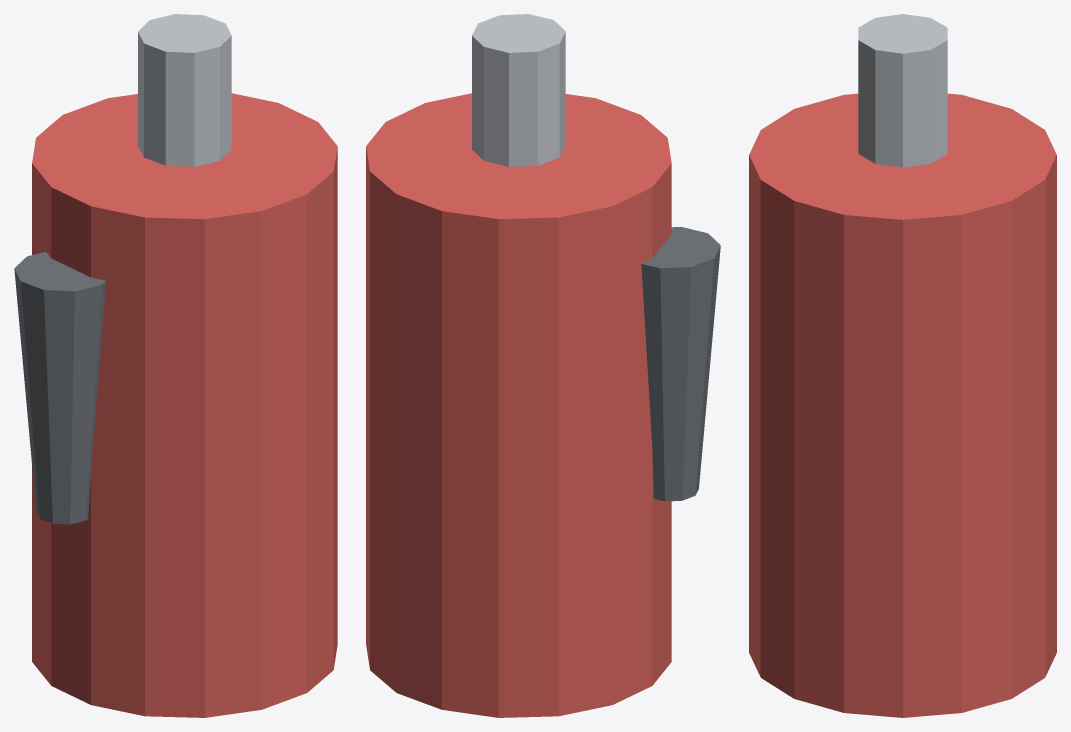
File: extinguisher_cyl.glb
3 renders of one model, left to right at view 1: azimuth 30°, elevation 25°; view 2: azimuth 150°, elevation 25°; view 3: azimuth 270°, elevation 25°, orthographic.
Parts seen in each view (by area): view 1: TankRed, ErgonomicGrip, MetalBody; view 2: TankRed, ErgonomicGrip, MetalBody; view 3: TankRed, MetalBody.
Boxes of the visible parts, left/top/right/bottom form: TankRed: left=32, top=93, right=337, bottom=717; ErgonomicGrip: left=14, top=252, right=105, bottom=524; MetalBody: left=138, top=14, right=231, bottom=166; TankRed: left=366, top=93, right=671, bottom=717; ErgonomicGrip: left=641, top=227, right=720, bottom=501; MetalBody: left=472, top=14, right=565, bottom=166; TankRed: left=749, top=93, right=1056, bottom=717; MetalBody: left=858, top=14, right=947, bottom=167.
Bounding box in the file's own units: 0.23 × 0.435 × 0.196.
